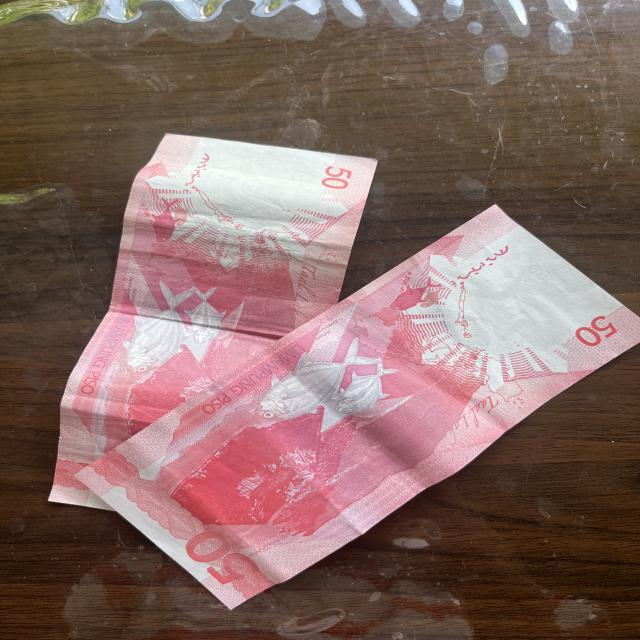50_maliputo: (244, 332, 392, 434), (111, 273, 230, 382)
50_maliputo_watermark: (138, 193, 199, 247), (387, 271, 456, 316)
value_watermark: (516, 260, 562, 288)
watermark: (438, 252, 585, 351)
